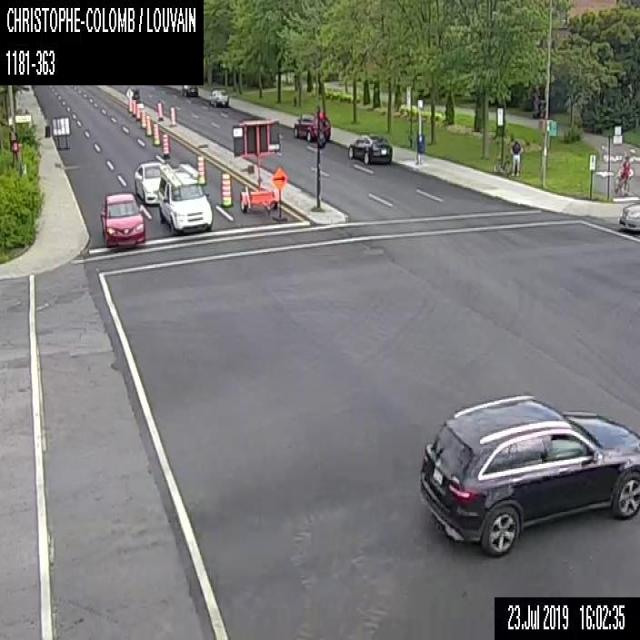construction: (231, 118, 280, 211), (272, 166, 286, 221), (219, 171, 232, 205), (59, 115, 71, 149), (50, 115, 62, 148), (196, 152, 204, 183), (161, 133, 170, 157), (152, 120, 160, 145), (145, 113, 152, 135), (169, 106, 176, 125), (157, 100, 163, 121), (140, 108, 146, 127), (131, 98, 136, 115), (135, 102, 140, 118), (128, 96, 133, 111)
cyclist: (615, 156, 629, 195)
pedestrian: (508, 138, 523, 174)
vehicle: (418, 392, 639, 557), (158, 161, 212, 232), (100, 190, 145, 245), (134, 160, 172, 204), (346, 132, 392, 164), (292, 113, 330, 140), (618, 202, 639, 234), (208, 88, 227, 107), (181, 83, 197, 96), (132, 86, 140, 100)
